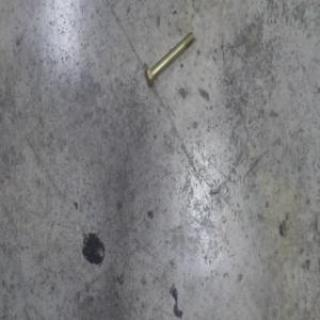Bolttrack_idkeyframe: (143, 30, 196, 87)
